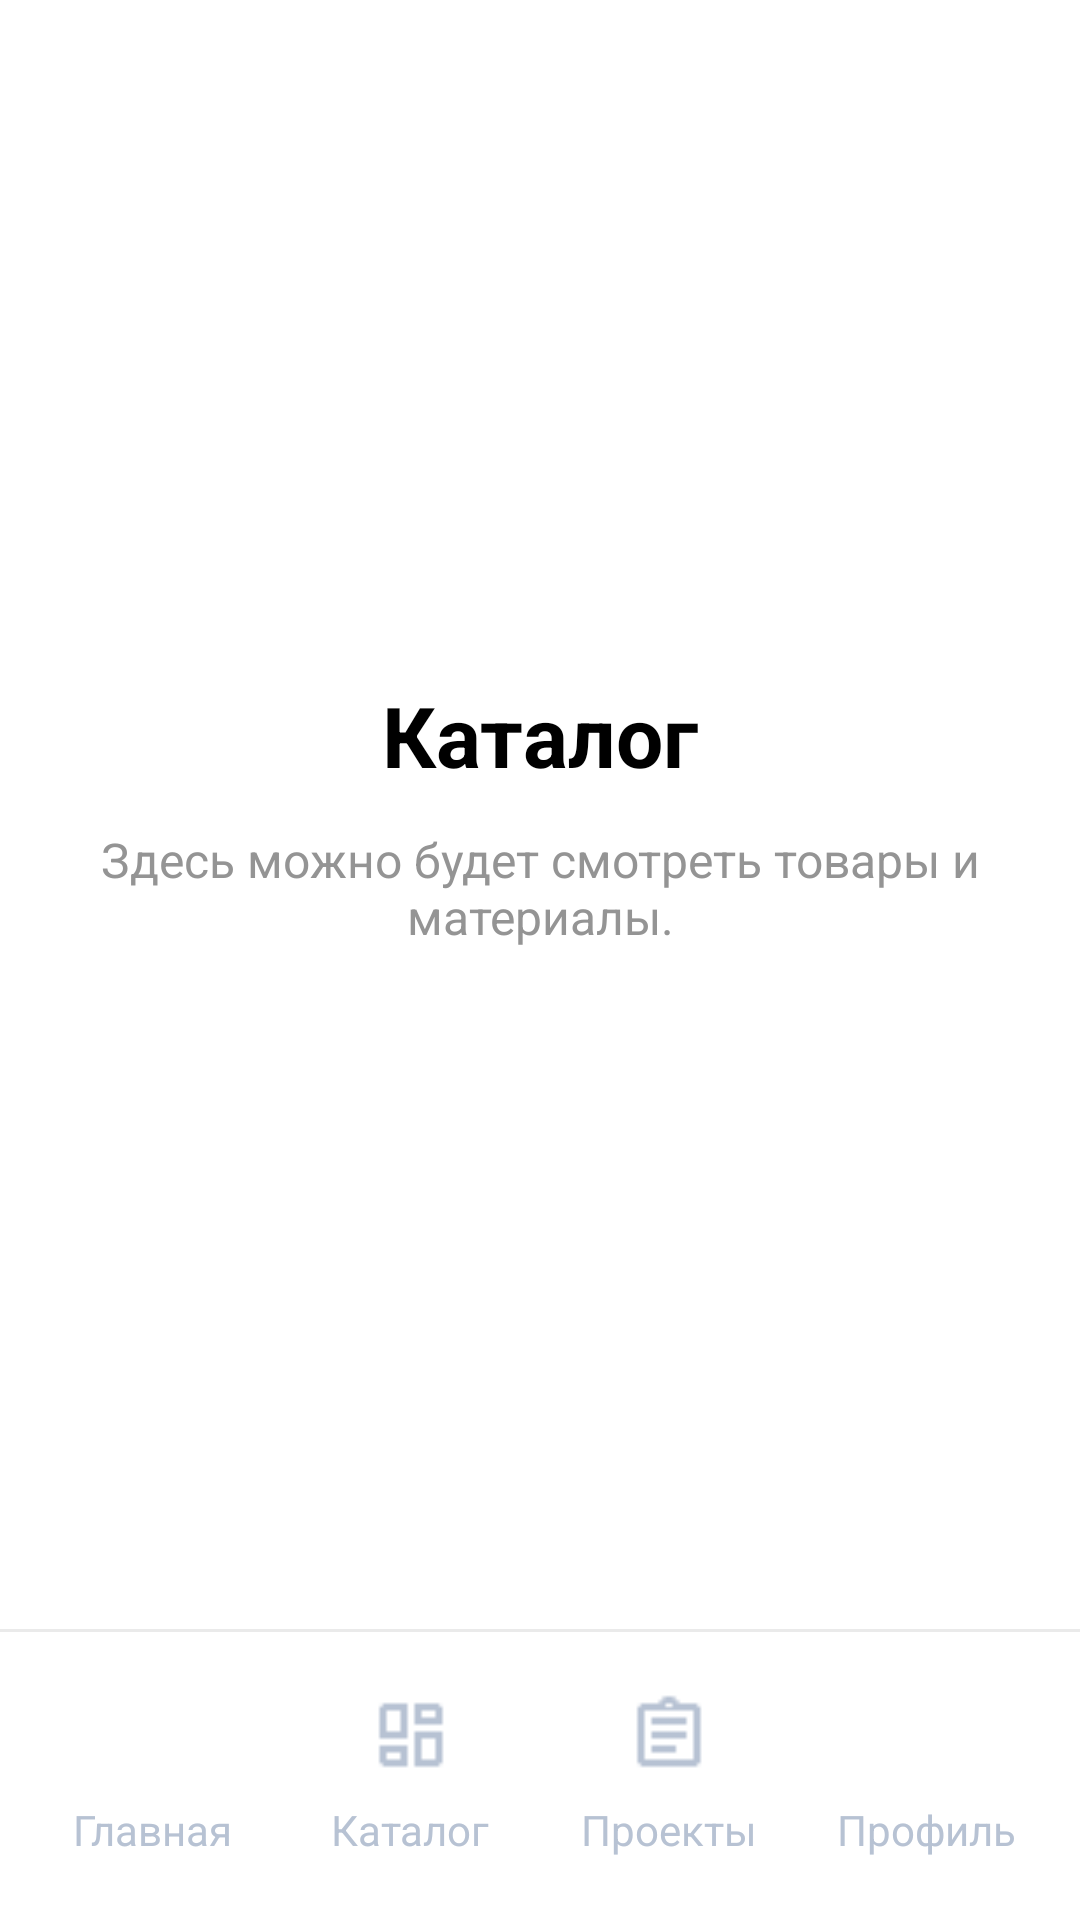

Icons on this 1080*1920 Android screen, each with its box as [x1, y1, x2, y2]:
catalog page: [379, 1703, 443, 1767]
projects page: [637, 1696, 701, 1767]
